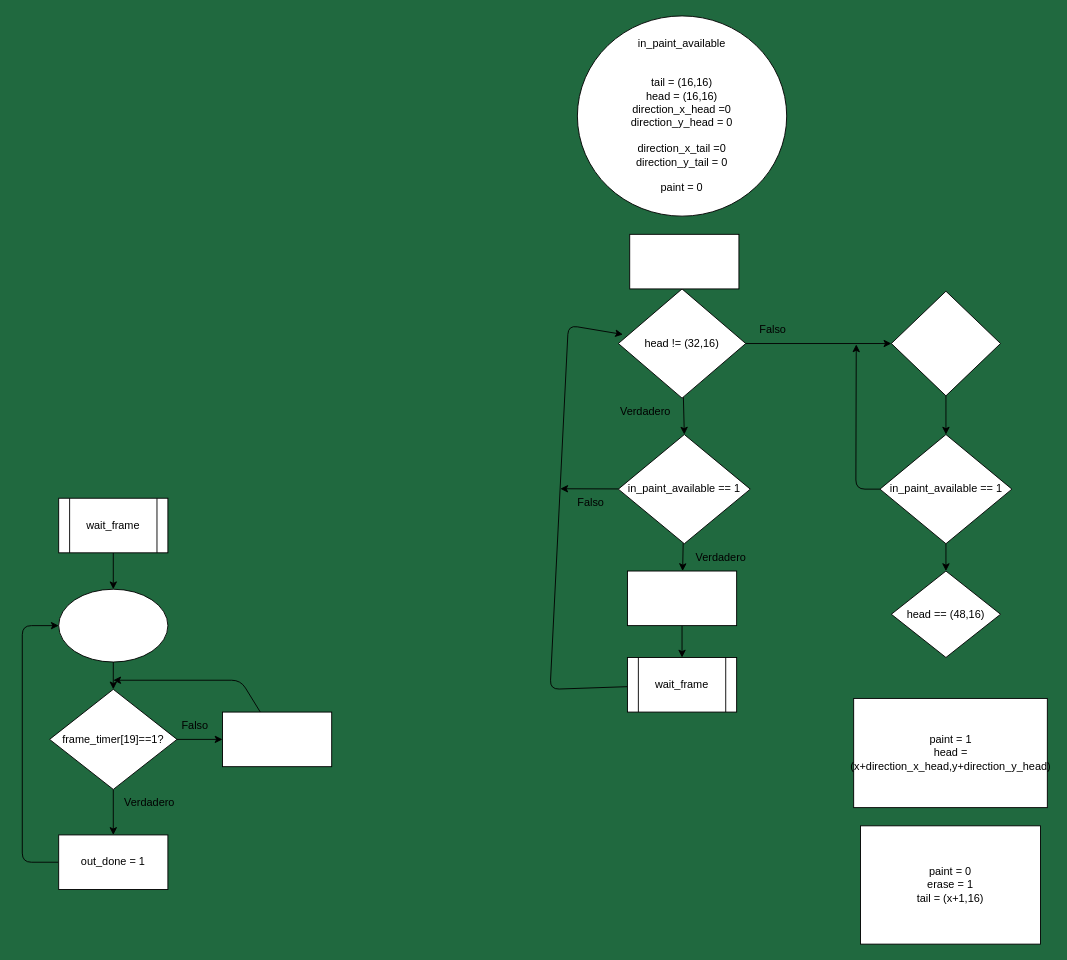
The diagram is 1067 pixels wide and 960 high, and some of its shapes have lost their labels. The shapes that lost their labels are listed below. From the top down, each one's centre as x and y in pixels, then its label:
At [684,261]: "direction_x_head = 1".
At [945,343]: "head != (16,16)".
At [682,598]: "paint = 1 head = (x+directio n_x_head,16)".
At [113,625]: "[19:0]frame_timer = 0 out_done = 0".
At [277,739]: "frame_timer + 1".
